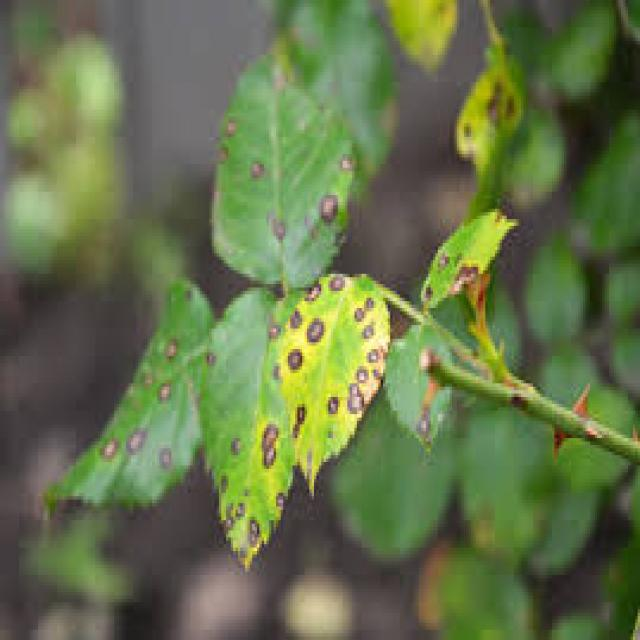black-spot: (322, 265, 402, 530)
